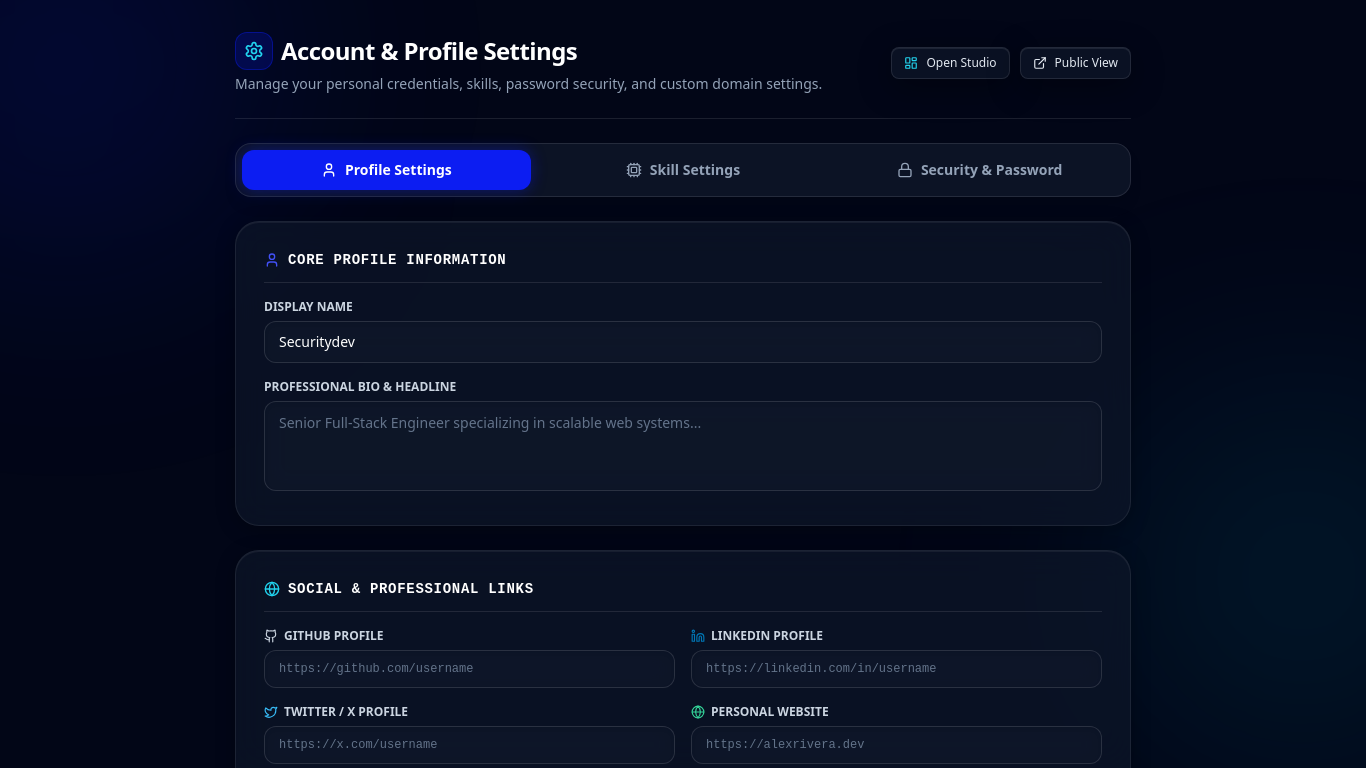
Test case: FORGOT PASSWORD & OTP RESET WORKFLOW TESTS › 3. SettingsPage Integration with Forgot Password Flow › should display "Forgot current password?" button in Security tab and open modal
This screenshot has width=1366, height=768.
Note: Switch to Security Tab
Step 1. Click the button "Security & Password" → (980, 170), box [835,150,1124,190]
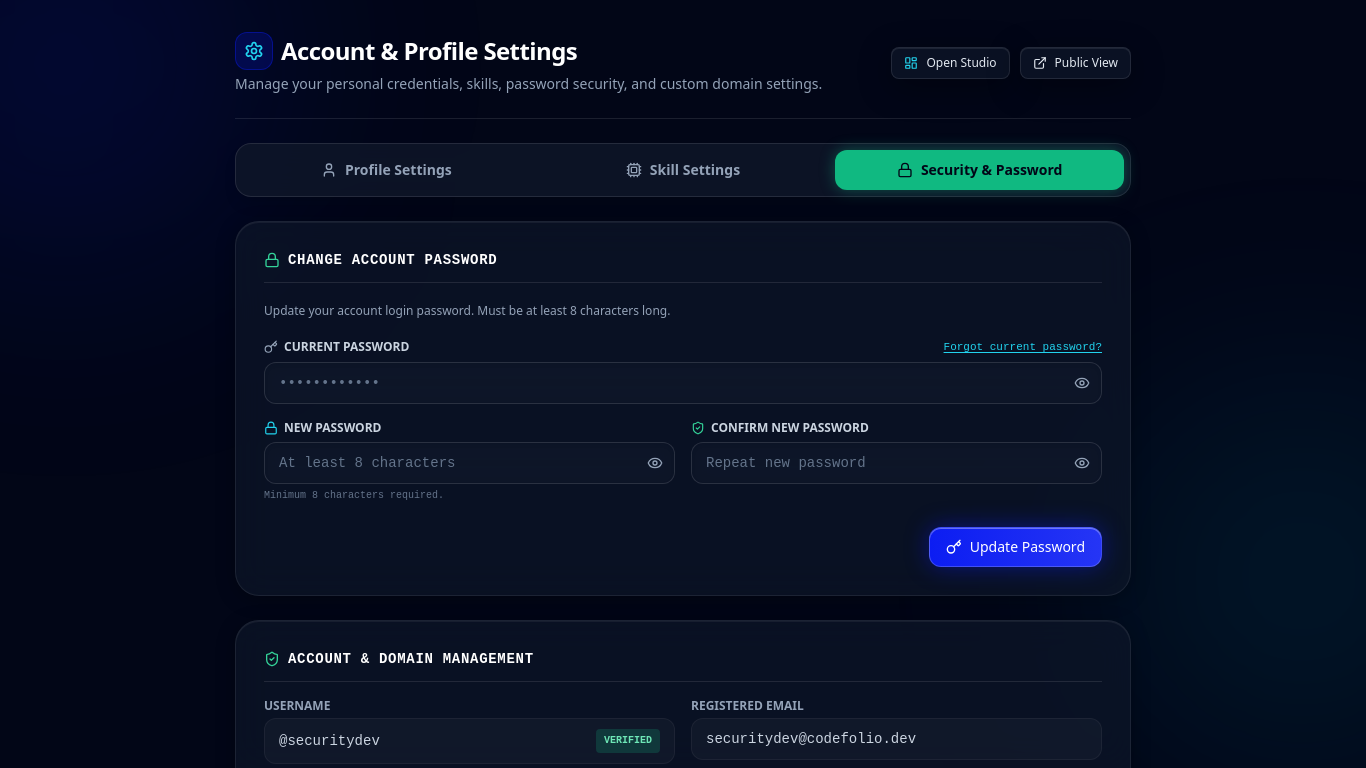
Expected: the button "Forgot current password?" is shown
Note: Click it to open ForgotPasswordModal
Step 2. Click the button "Forgot current password?" → (1023, 347), box [944,339,1102,356]
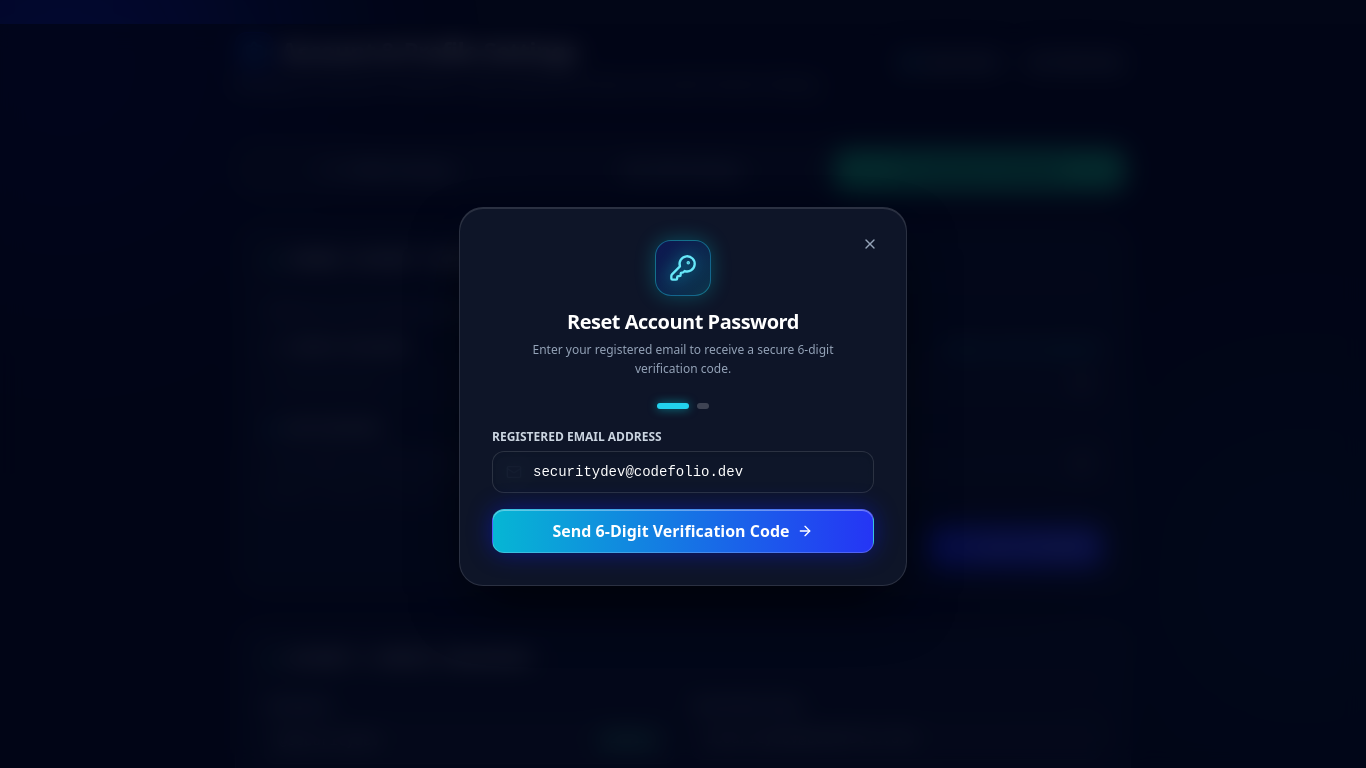
Expected: the heading "Reset Account Password" is shown, [567,308,799,336]
Expected: the field showing "securitydev@codefolio.dev" is shown, [492,450,874,492]
